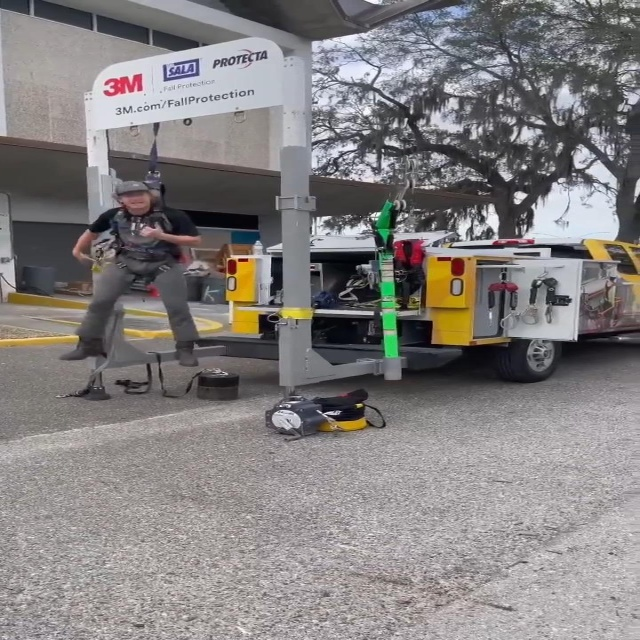Arnes_seguridad: (90, 173, 204, 295)
